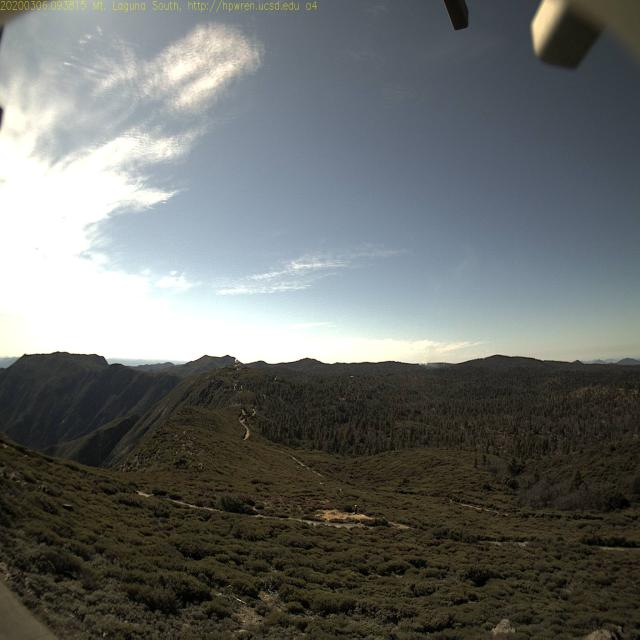smoke: (411, 342, 448, 371)
